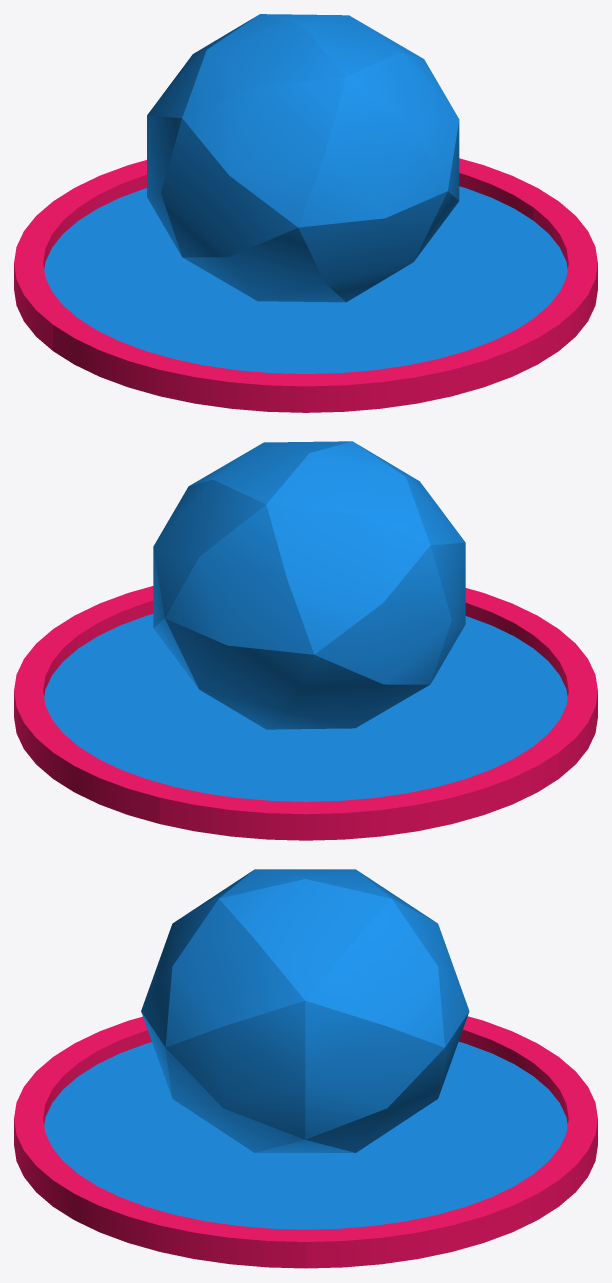
Rendered from Demo_Fountain.fbx.
3 renders of one model, top to bottom at view 1: azimuth 30°, elevation 25°; view 2: azimuth 150°, elevation 25°; view 3: azimuth 270°, elevation 25°, orthographic.
Visible parts, largest first — view 1: mergedBlocks; view 2: mergedBlocks; view 3: mergedBlocks.
Boxes of the visible parts, bbox=[...] form: mergedBlocks: bbox=[14, 14, 597, 412]; mergedBlocks: bbox=[14, 441, 597, 840]; mergedBlocks: bbox=[14, 869, 597, 1268].
Bounding box in the file's own units: 40 × 20 × 40.
